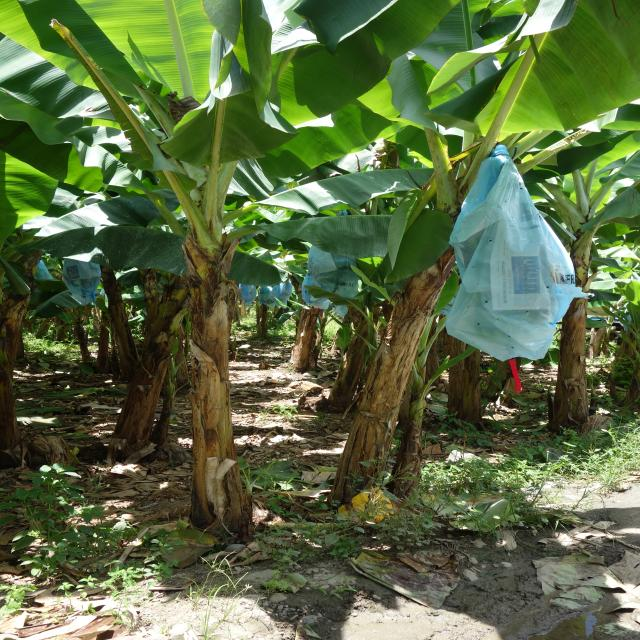Banana-plant: (330, 151, 488, 533), (137, 103, 269, 534), (528, 204, 610, 438)
